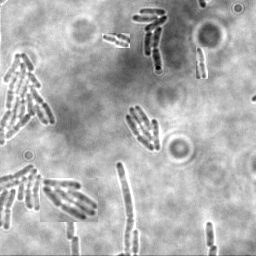Dividing: (114, 161, 133, 255), (102, 33, 130, 48), (196, 47, 208, 79), (204, 221, 215, 248)
Microcolony: (1, 51, 56, 147), (1, 162, 44, 231), (40, 178, 98, 222), (130, 8, 167, 72), (124, 106, 160, 153), (63, 223, 74, 240)
